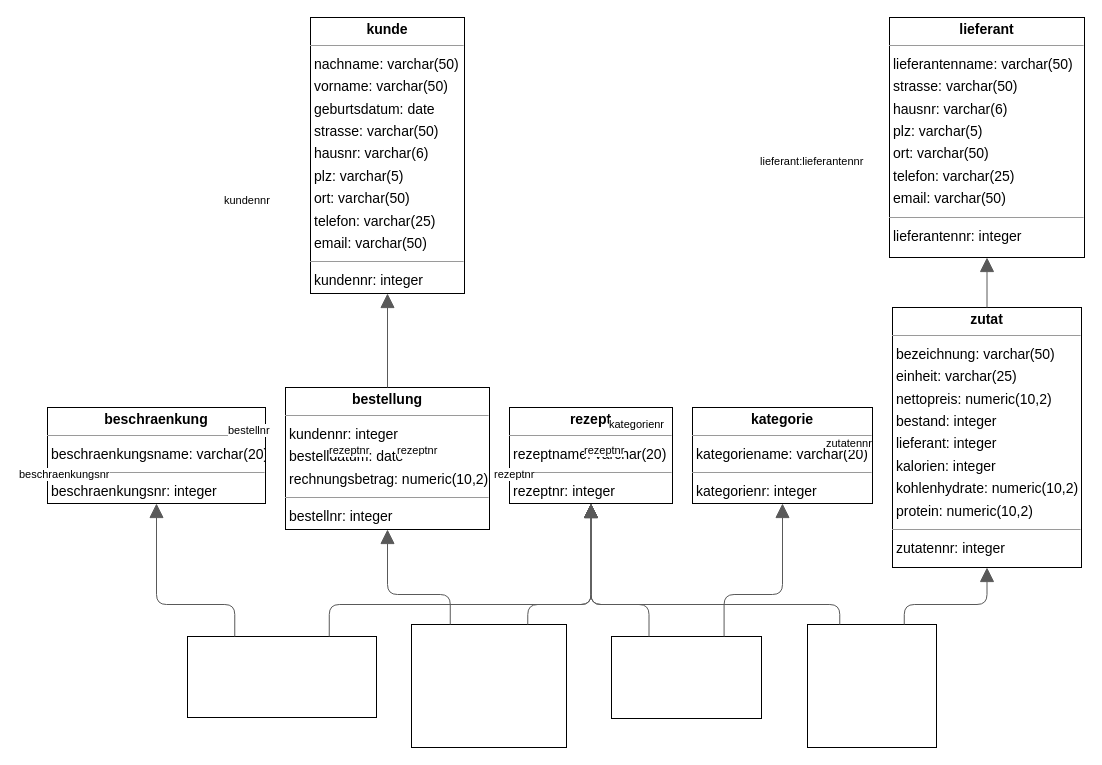
This 1102x765 diagram has some shape labels left out. The shapes that lost their labels are listed below. From the top down, each one's centre as x and y in pixels, then its label:
At point (281, 677): "rezept_beschraenkung rezeptnr: integer beschraenkungsnr: integer".
At point (488, 686): "bestellung_rezept menge: integer bestellnr: integer rezeptnr: integer".
At point (686, 677): "rezept_kategorie rezeptnr: integer kategorienr: integer".
At point (871, 686): "rezept_zutat menge: integer rezeptnr: integer zutatennr: integer".
